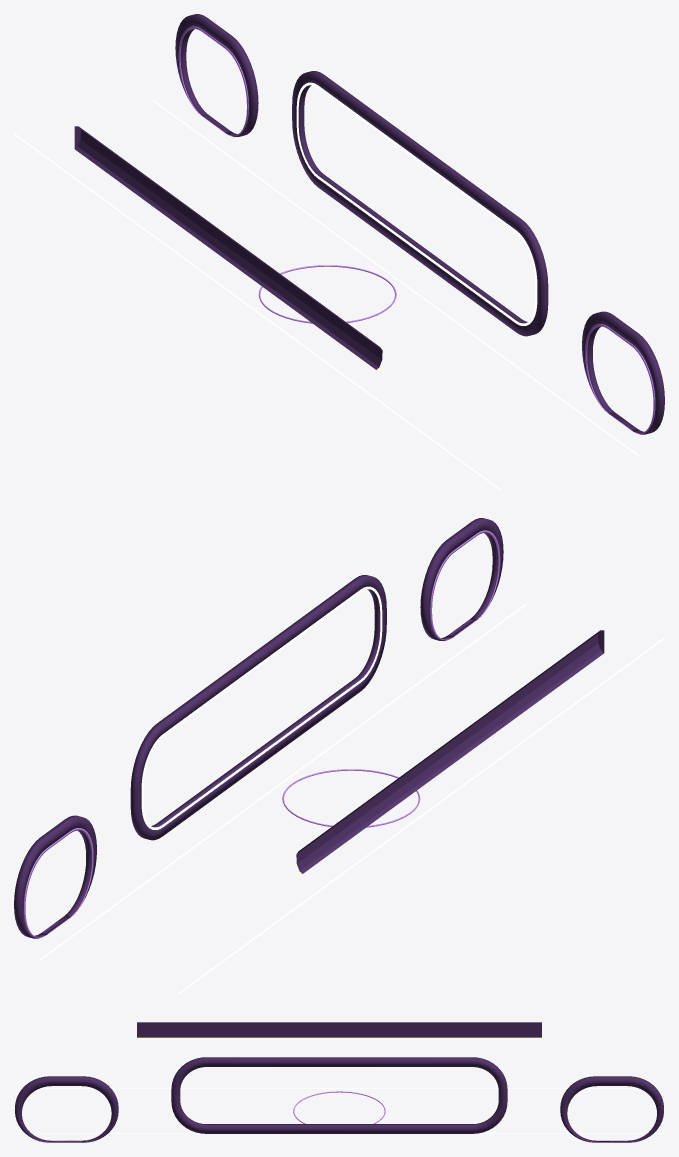
The model's file is SM_SB_Kit_AlienBridge.fbx.
3 renders of one model, top to bottom at view 1: azimuth 30°, elevation 25°; view 2: azimuth 150°, elevation 25°; view 3: azimuth 270°, elevation 25°, orthographic. The views are drawn at different scales.
Parts seen in each view (by area): view 1: SM_SB_Kit_AlienBridge; view 2: SM_SB_Kit_AlienBridge; view 3: SM_SB_Kit_AlienBridge.
Part boxes in pixels (x1,y1,x2,y2): SM_SB_Kit_AlienBridge: (14,14,664,489); SM_SB_Kit_AlienBridge: (14,518,664,993); SM_SB_Kit_AlienBridge: (14,1022,664,1142).
Bounding box in the file's own units: 870 × 3700 × 526.
